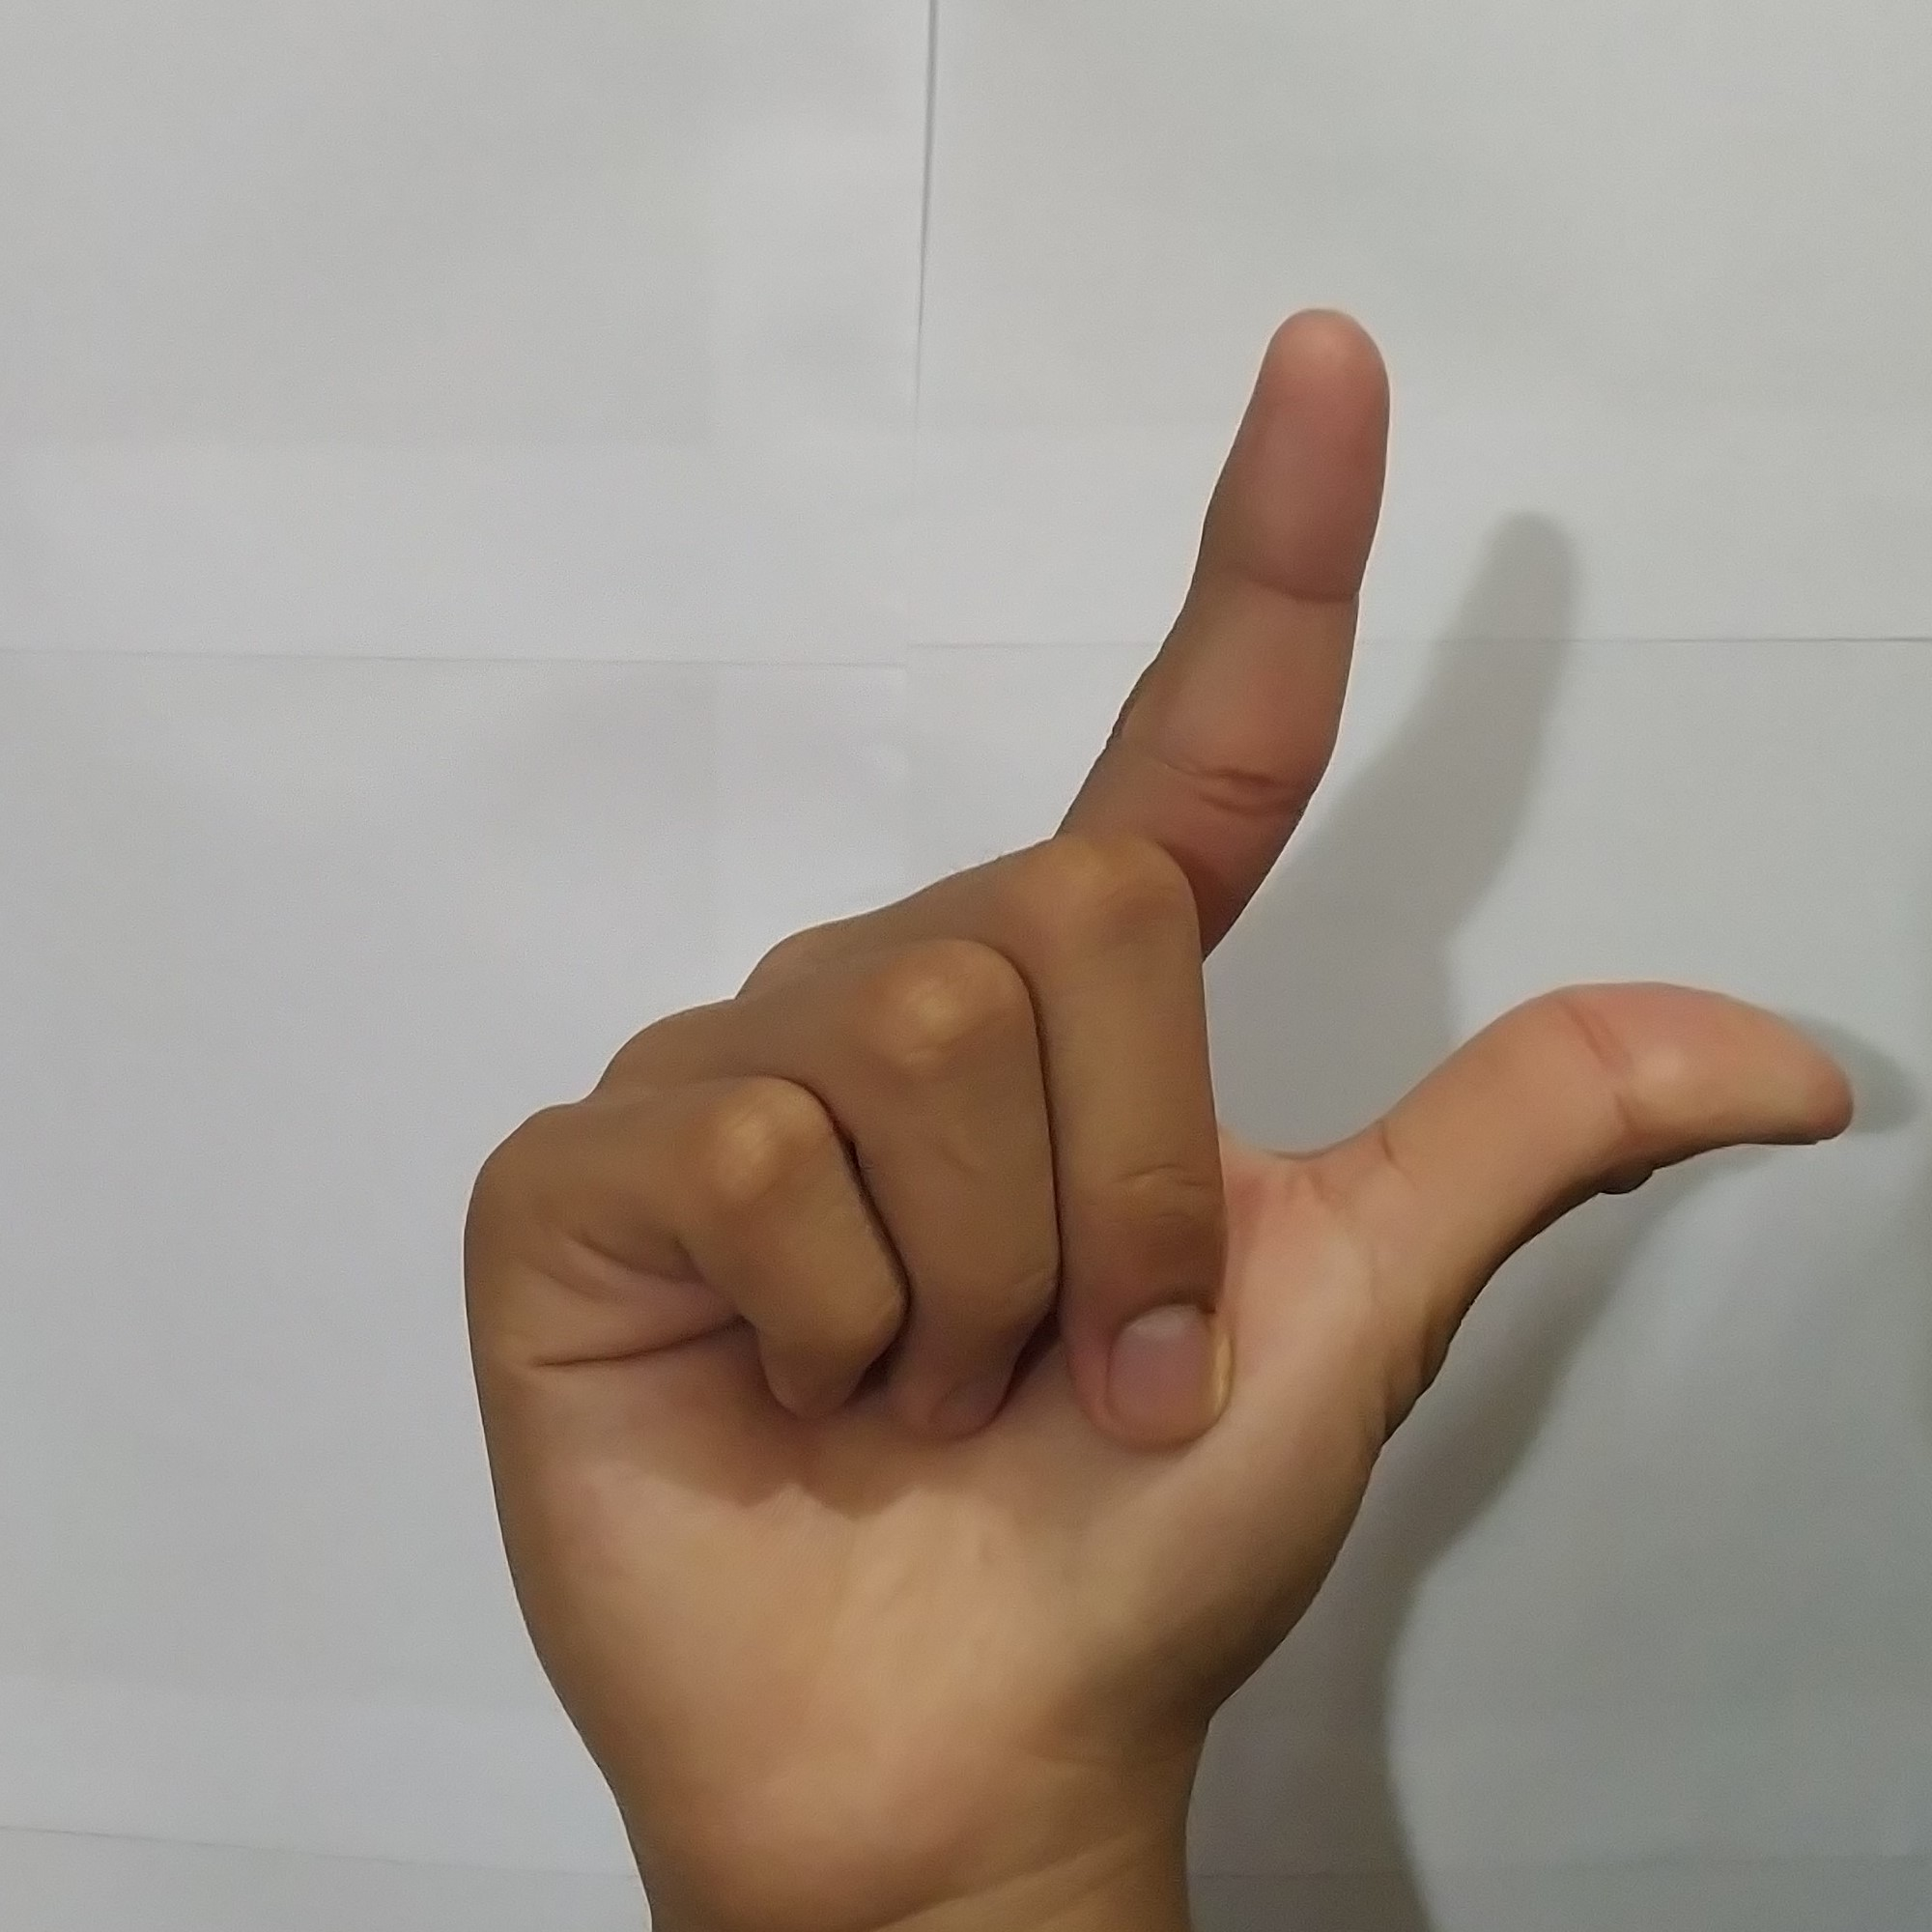L: (430, 290, 1868, 1803)
